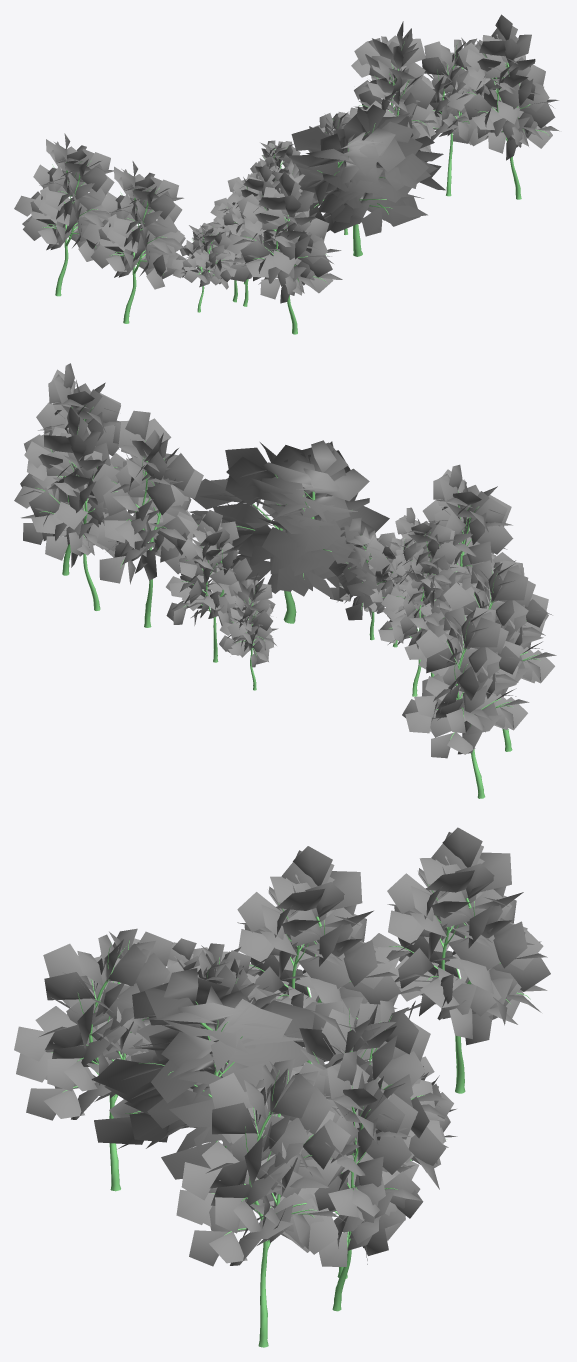
The model's file is Woods_Dawn_Trees_04.gltf.
3 renders of one model, top to bottom at view 1: azimuth 30°, elevation 25°; view 2: azimuth 150°, elevation 25°; view 3: azimuth 270°, elevation 25°, orthographic. The views are drawn at different scales.
Parts seen in each view (by area): view 1: Woods_Dawn_Trees_04; view 2: Woods_Dawn_Trees_04; view 3: Woods_Dawn_Trees_04.
Part boxes in pixels (bbox=[...]): Woods_Dawn_Trees_04: bbox=[14, 14, 559, 334]; Woods_Dawn_Trees_04: bbox=[14, 363, 556, 798]; Woods_Dawn_Trees_04: bbox=[14, 827, 550, 1347].
Size of the model in its own units: 296 by 134 by 181.
